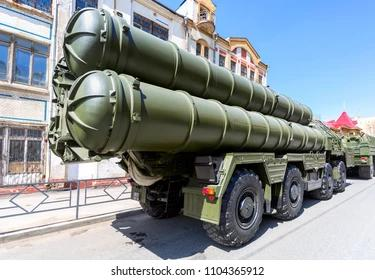MIL_SAM_TEL: (51, 9, 345, 245)
